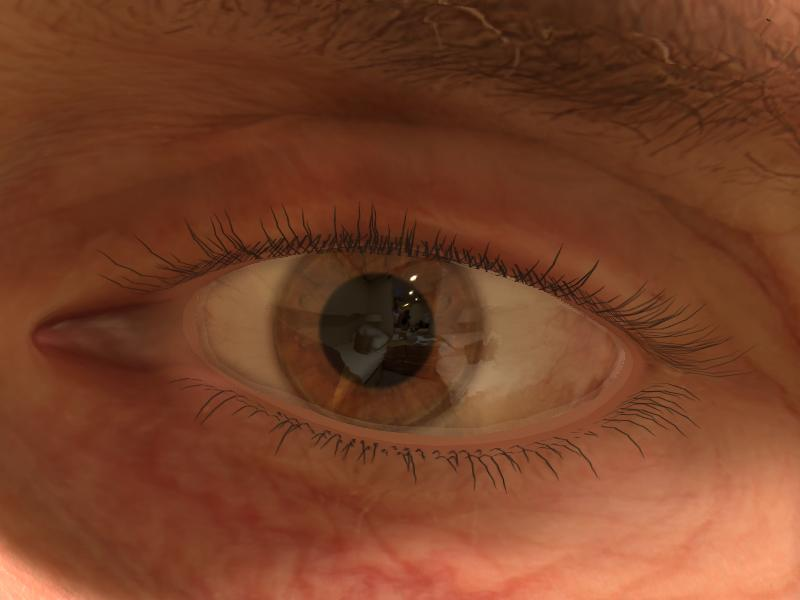eye: (276, 250, 490, 433)
